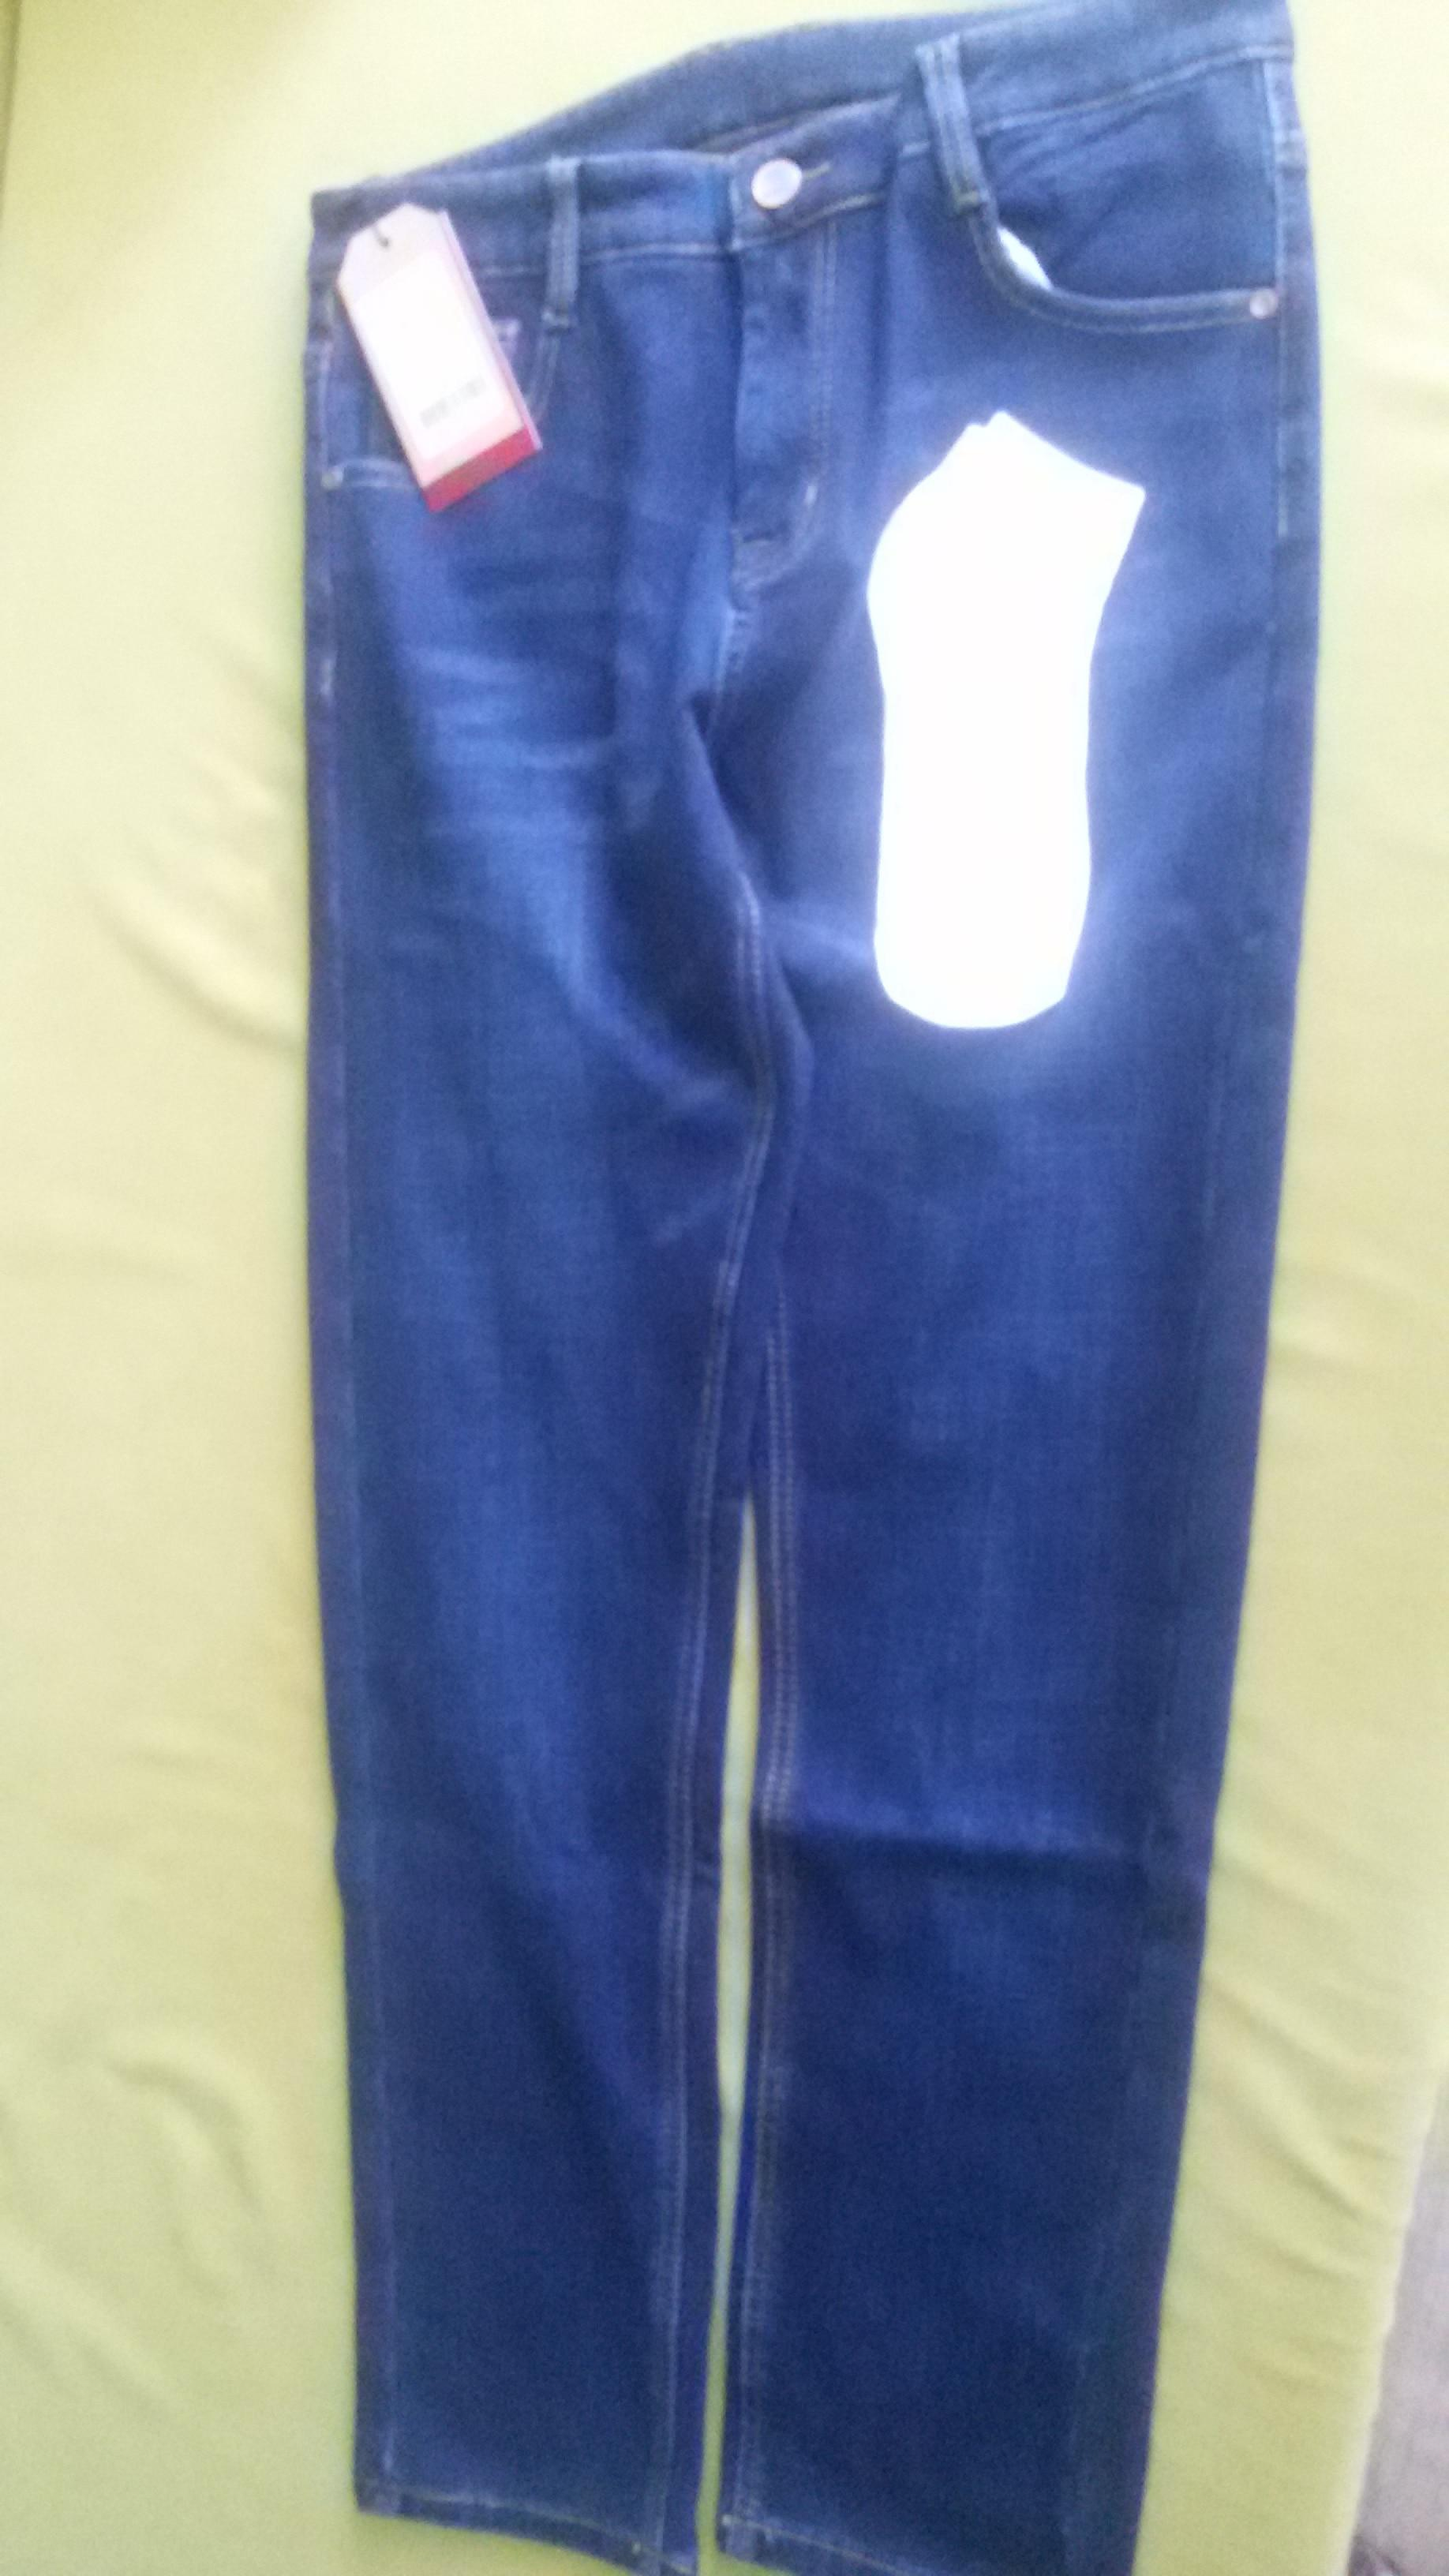jeans: (308, 7, 1313, 2465)
